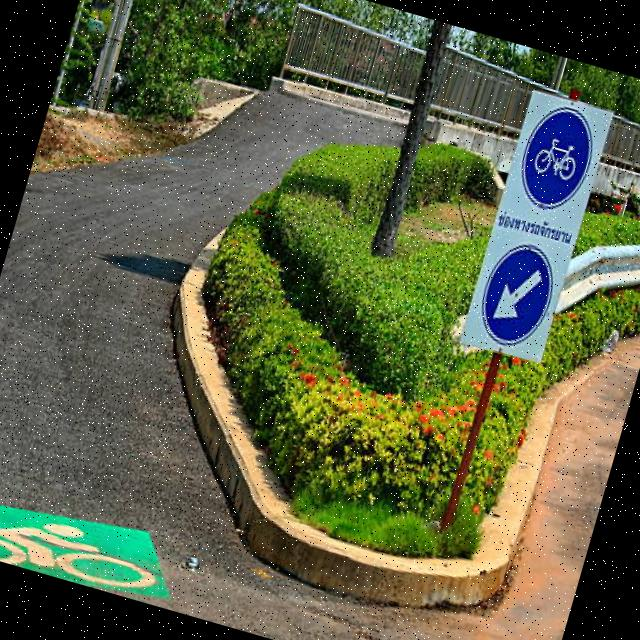bicycle: (512, 100, 604, 222)
